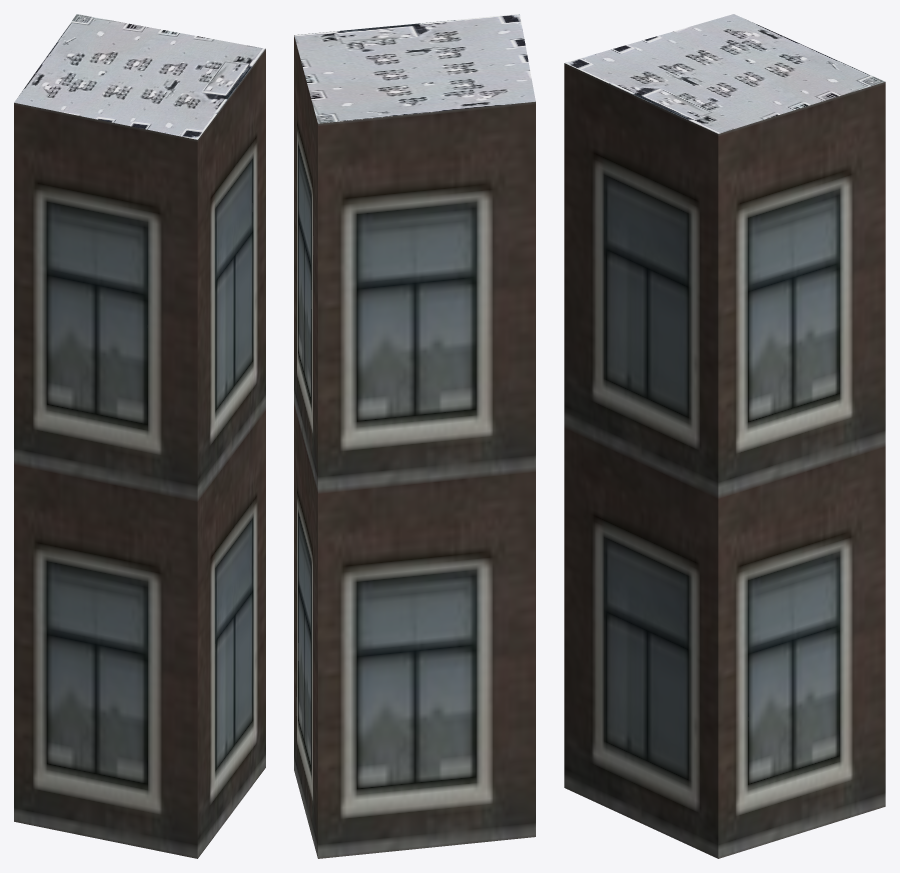
Rendered from ResTex__1381.fbx.
3 renders of one model, left to right at view 1: azimuth 30°, elevation 25°; view 2: azimuth 150°, elevation 25°; view 3: azimuth 270°, elevation 25°, orthographic. The views are drawn at different scales.
Visible parts, largest first — view 1: CityEngineMaterial_16_m, CityEngineMaterial_15_m; view 2: CityEngineMaterial_16_m, CityEngineMaterial_15_m; view 3: CityEngineMaterial_16_m, CityEngineMaterial_15_m.
Boxes of the visible parts, x1=… form: CityEngineMaterial_16_m: x1=14, y1=49, x2=265, y2=858; CityEngineMaterial_15_m: x1=14, y1=14, x2=265, y2=139; CityEngineMaterial_16_m: x1=294, y1=35, x2=535, y2=858; CityEngineMaterial_15_m: x1=294, y1=14, x2=535, y2=123; CityEngineMaterial_16_m: x1=564, y1=63, x2=885, y2=858; CityEngineMaterial_15_m: x1=565, y1=14, x2=884, y2=133.
Bounding box in the file's own units: 2.13 × 6 × 2.41.
Materials: 2 (2 with a texture image).
